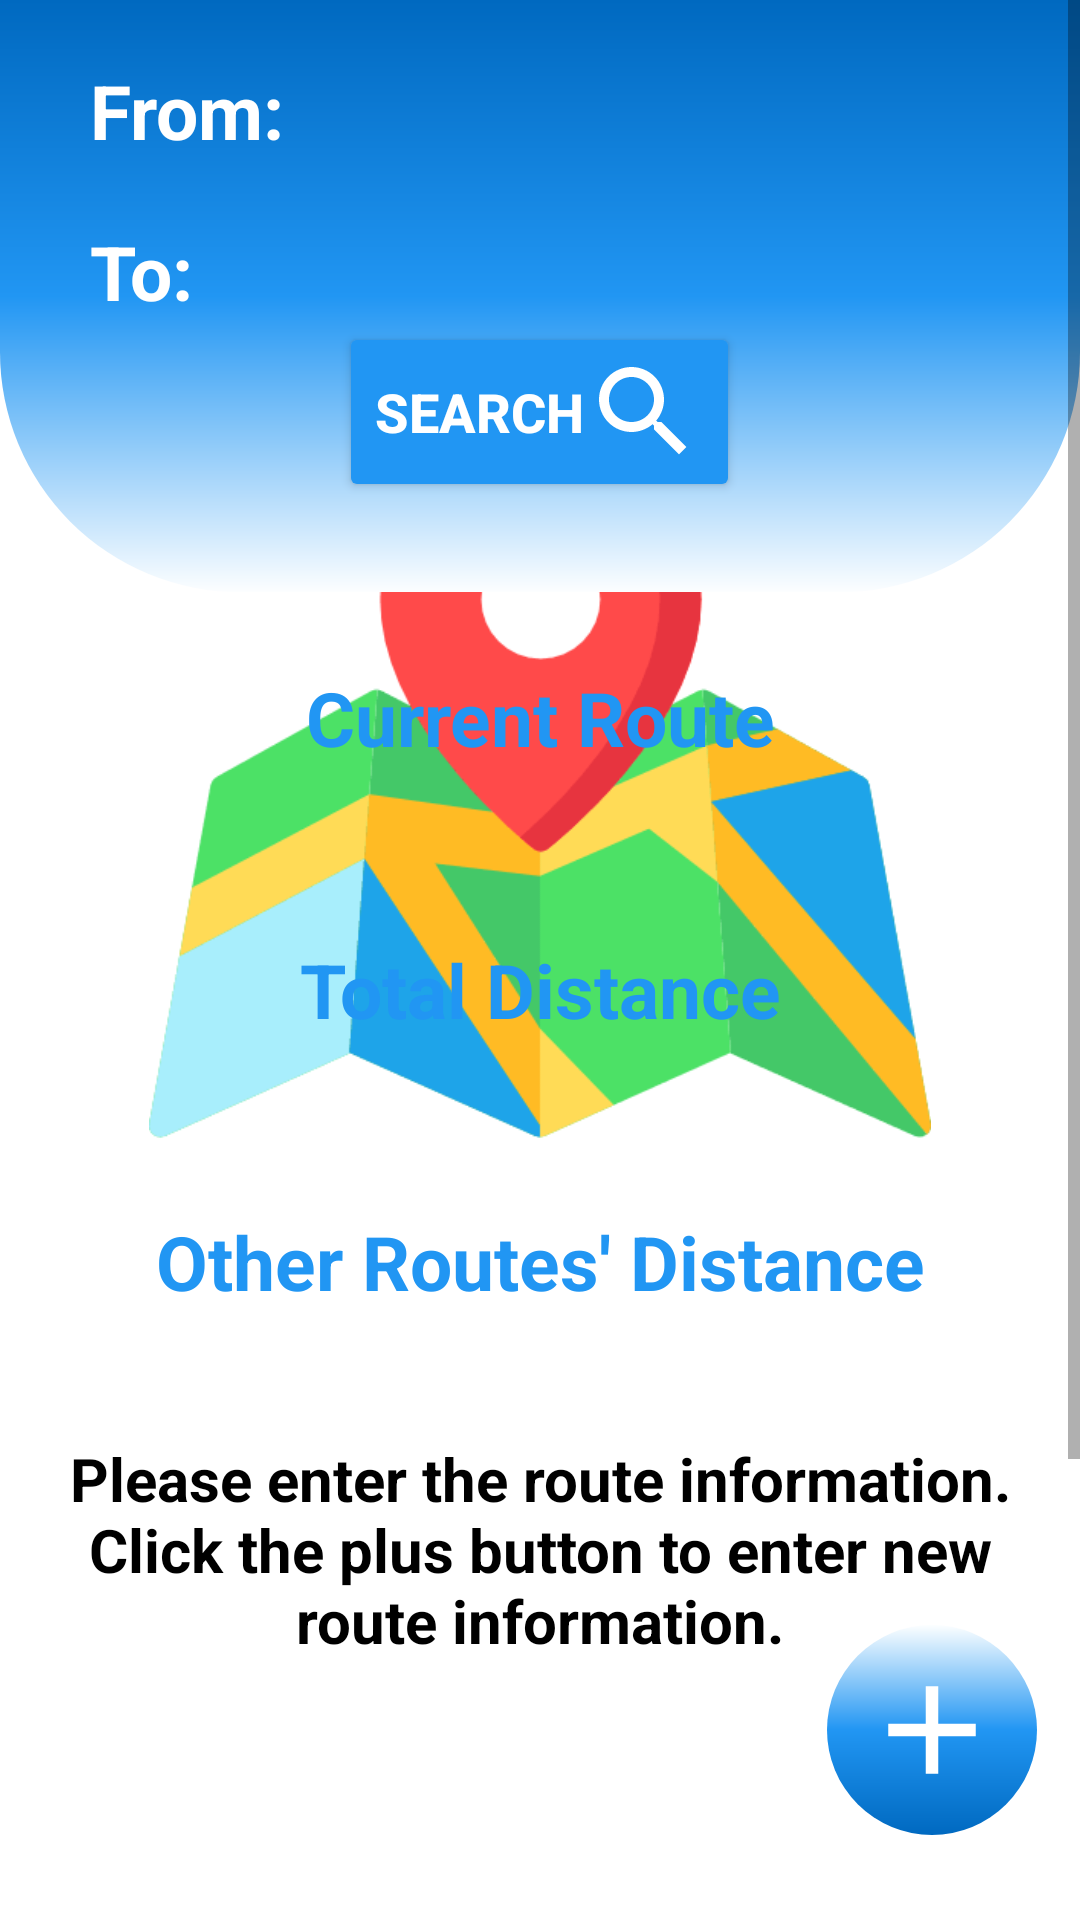

Icon click points for this 1080×1920 phone screenshot, format (x=x, y=y):
Add Image Button: (x=932, y=1735)
